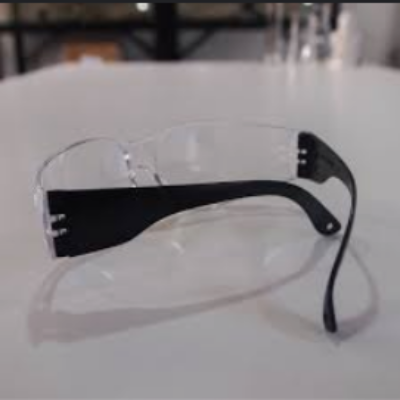glasses: (25, 117, 359, 345)
